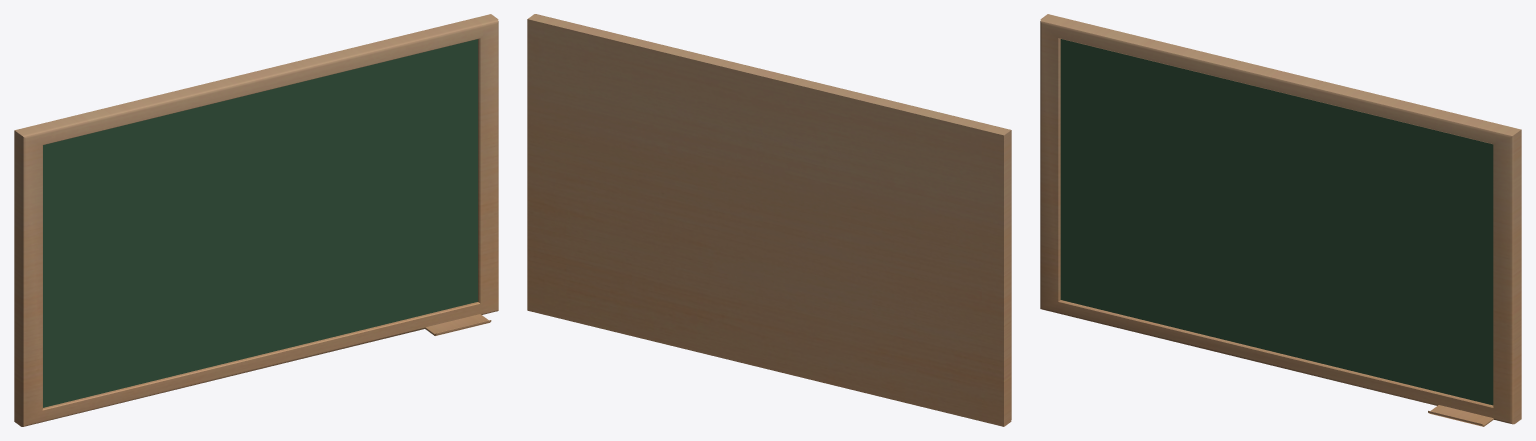
File: chalk board.fbx
The picture shows the model from 3 angles, left to right: view 1: azimuth 30°, elevation 25°; view 2: azimuth 150°, elevation 25°; view 3: azimuth 330°, elevation 25°; orthographic projection.
Visible parts, largest first — view 1: chalk_board; view 2: chalk_board; view 3: chalk_board.
Boxes of the visible parts, bbox=[...] form: chalk_board: bbox=[14, 14, 498, 426]; chalk_board: bbox=[527, 14, 1011, 426]; chalk_board: bbox=[1040, 14, 1521, 426].
Size of the model in its own units: 371 by 217 by 26.61.
Materials: 2 (1 with a texture image).
